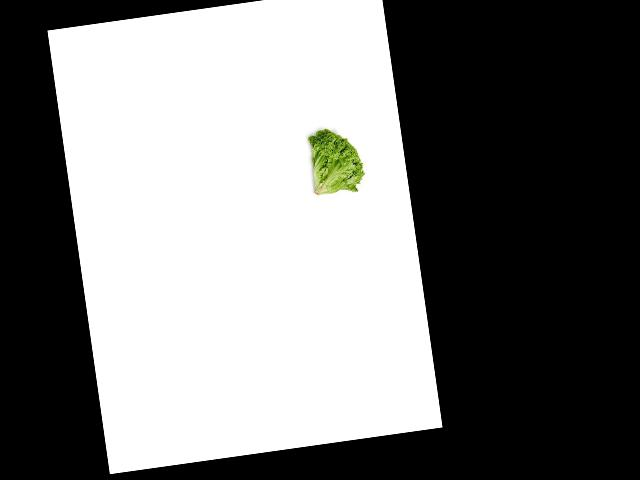lettuce: (299, 120, 370, 200)
